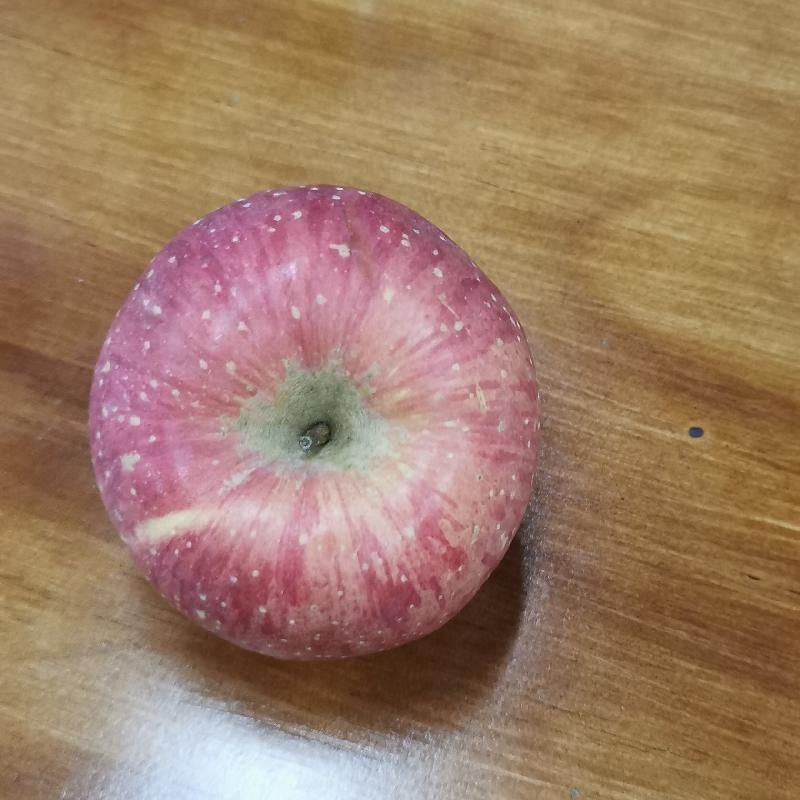apples: (83, 186, 554, 666)
